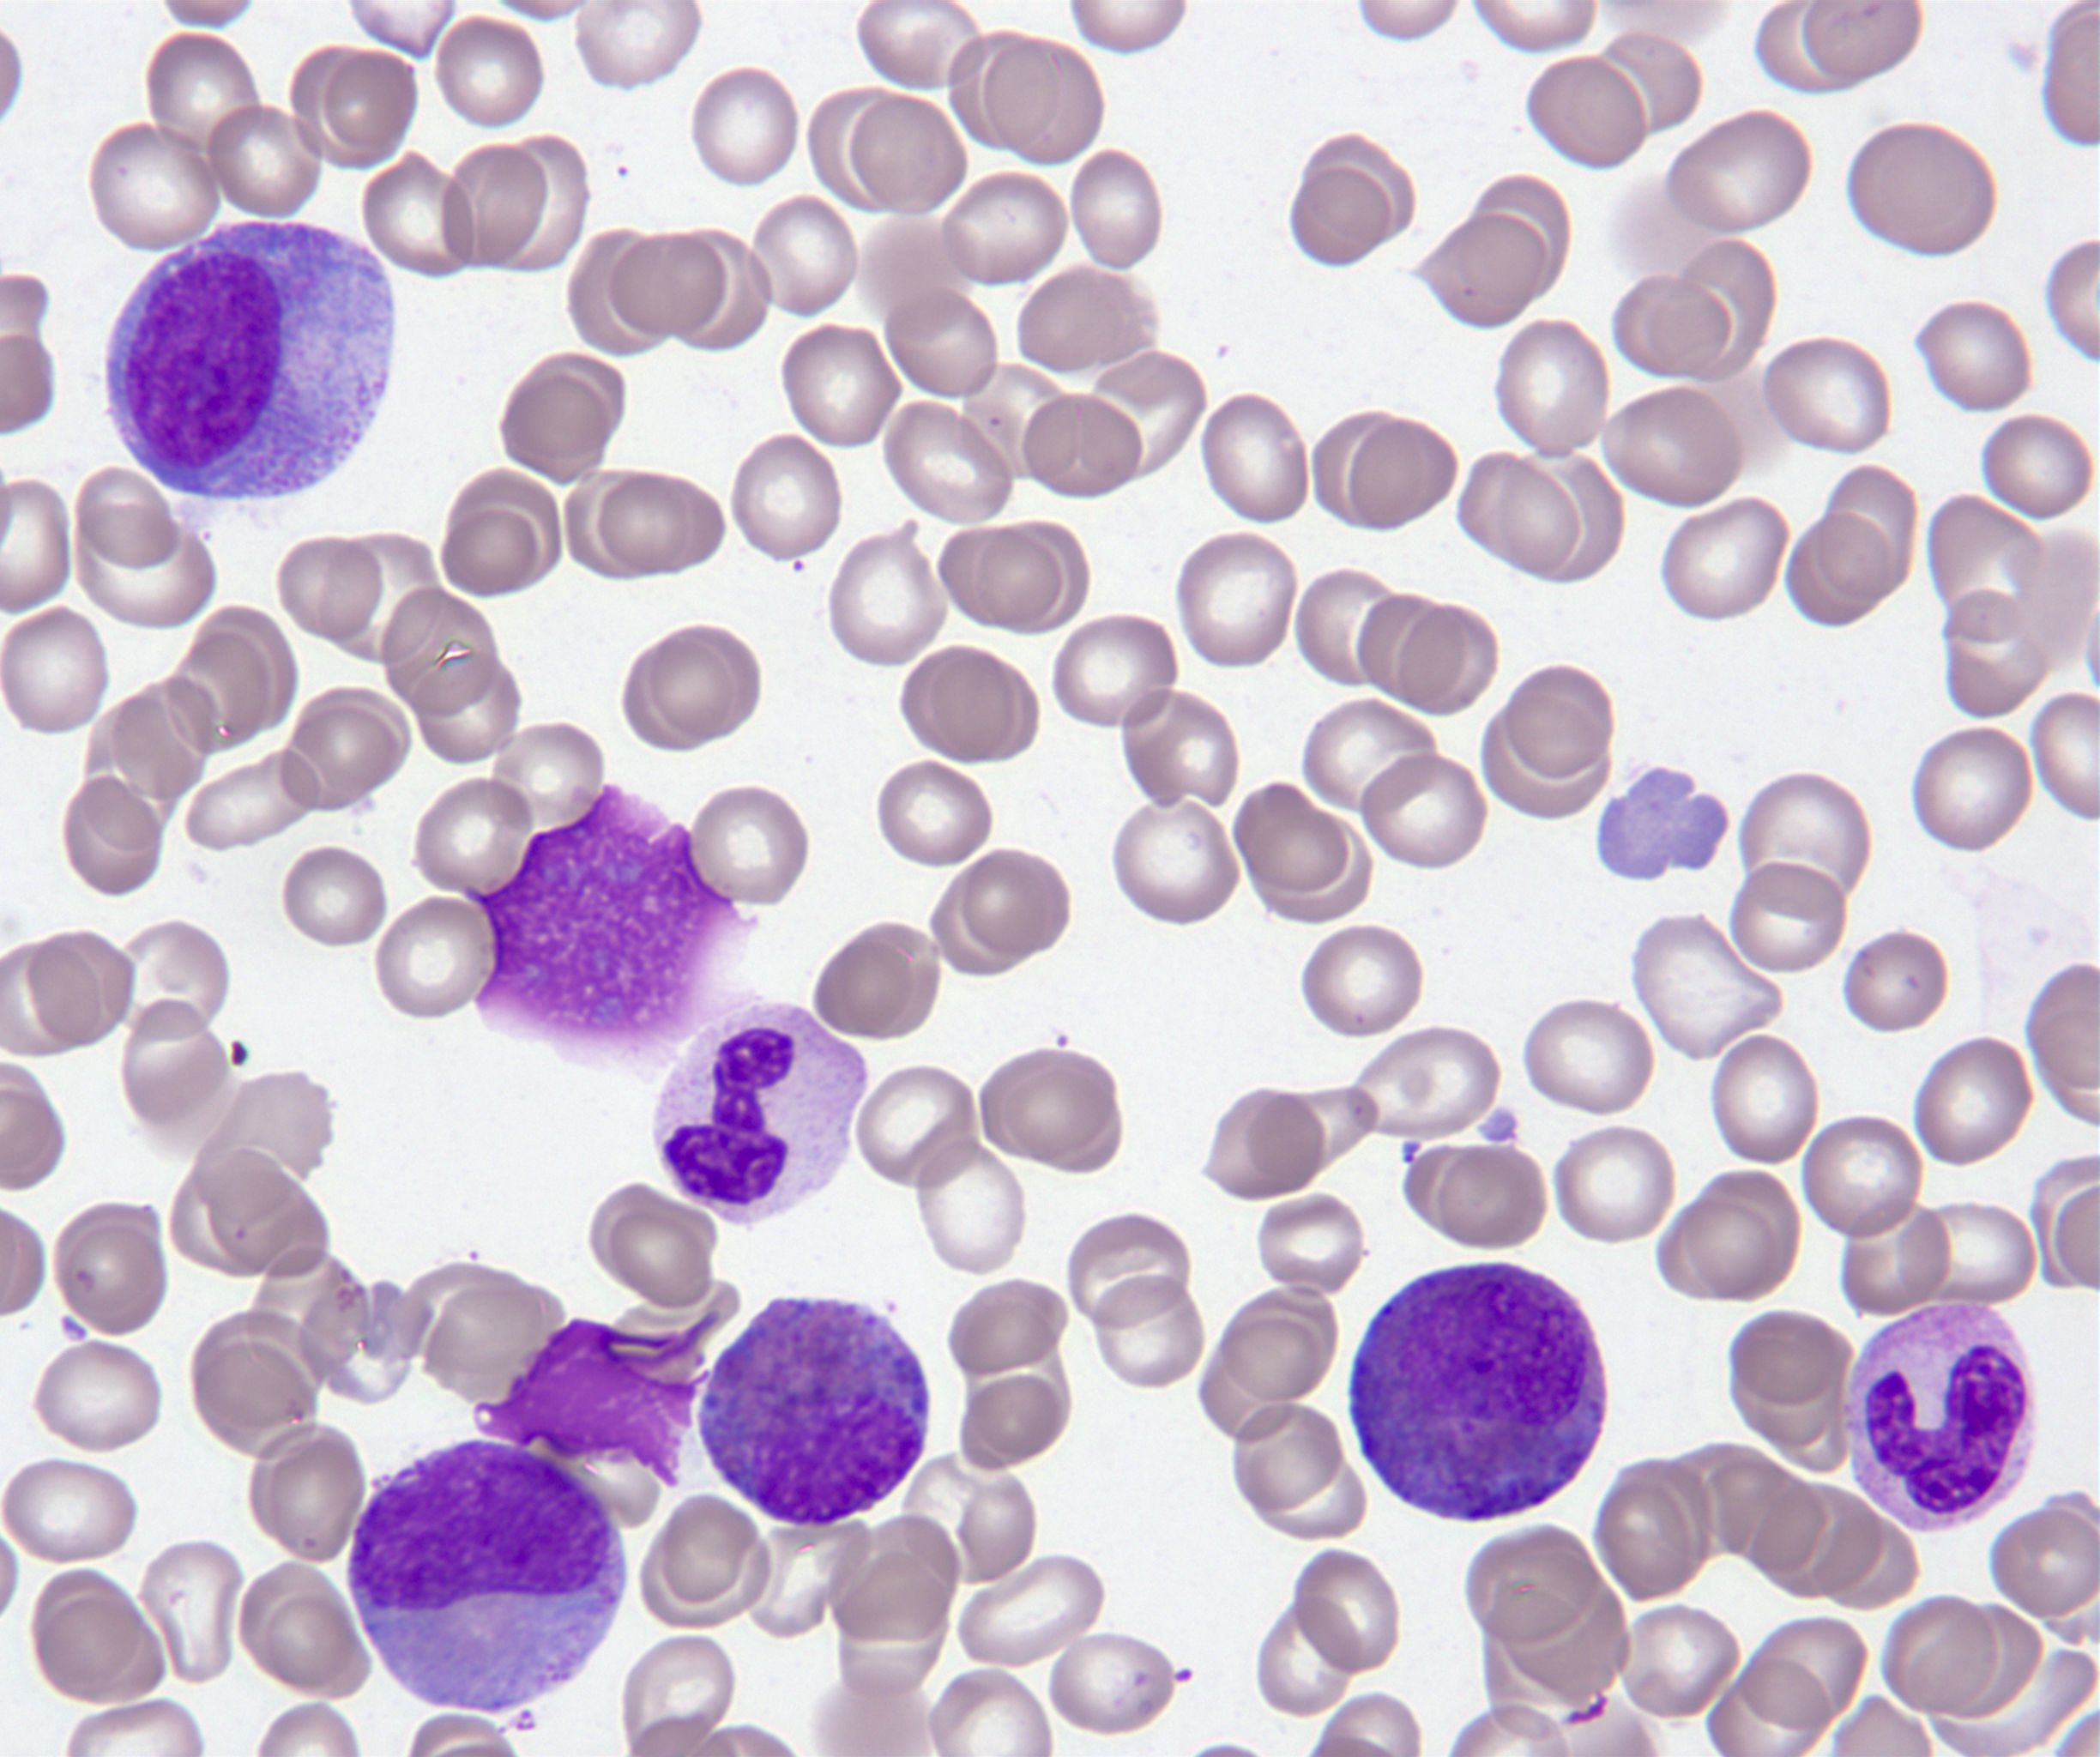3: (105, 223, 394, 501), (345, 1443, 626, 1713)
6: (651, 1007, 865, 1227), (1844, 1303, 2034, 1535)
E1: (1353, 1263, 1606, 1521), (701, 1302, 930, 1525)
x: (466, 782, 760, 1084), (473, 1310, 720, 1490)
